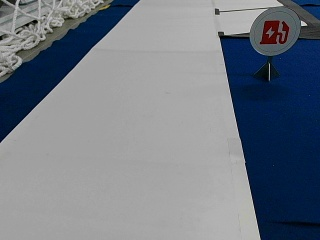battery: (249, 5, 300, 55)
